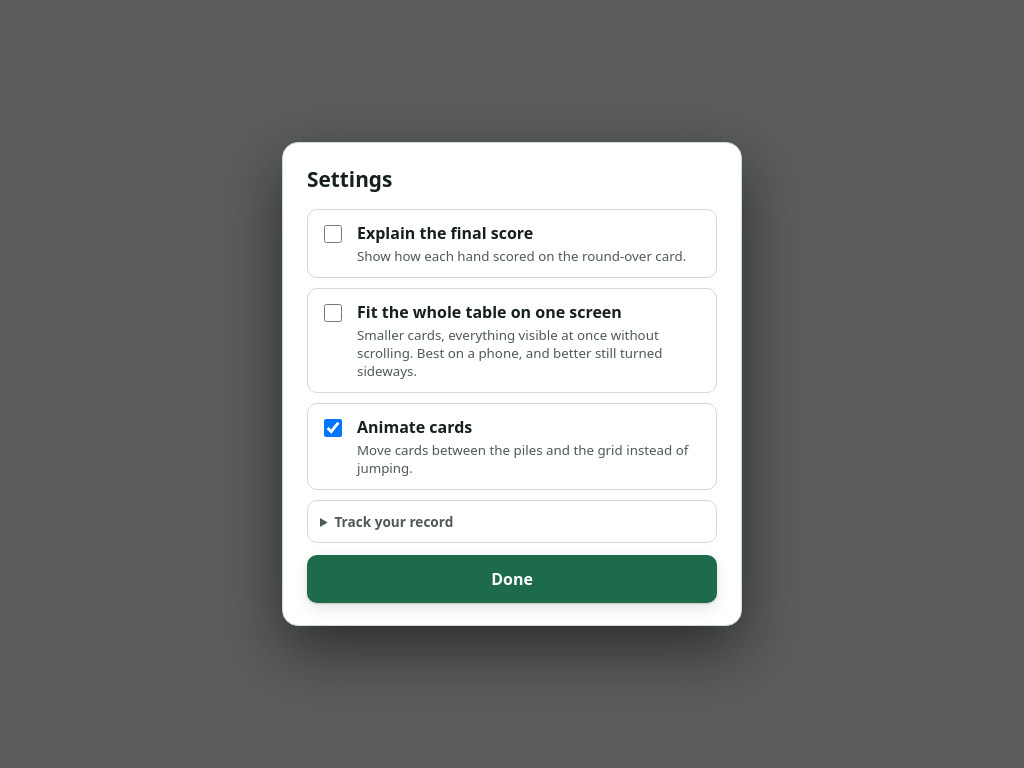
player record placement › records nothing while nobody is selected
Click the heading "Track your record" at point(394, 522), box top-left (334, 512), bottom-right (453, 531)
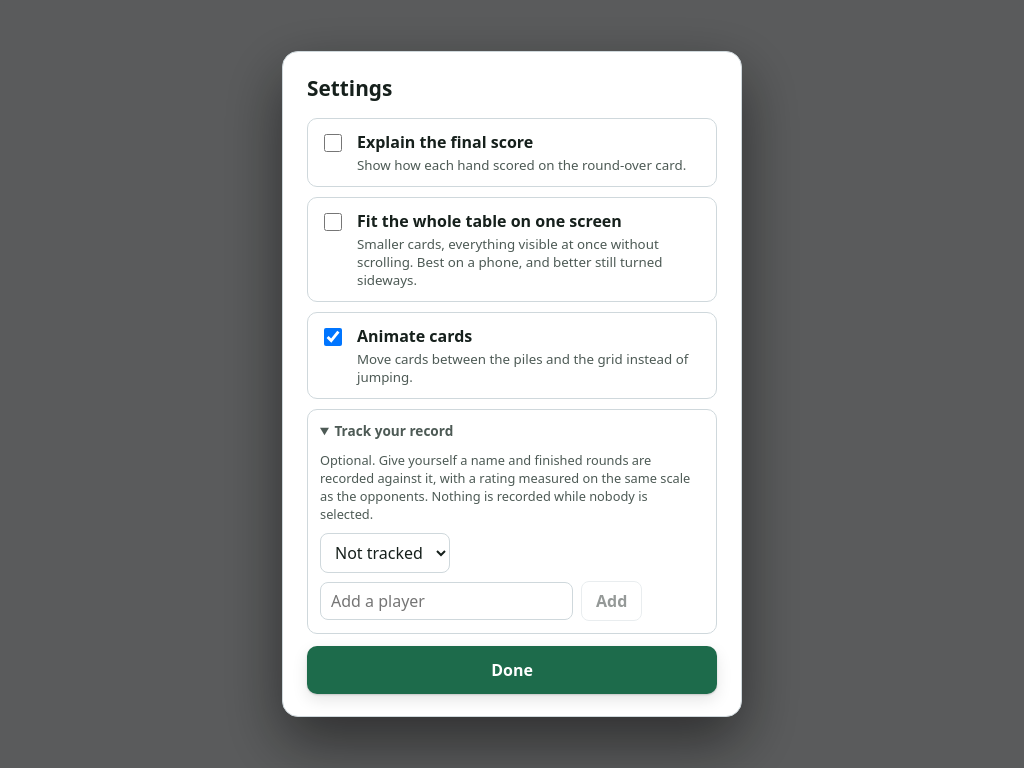
Expected: the dropdown named "Player" shows "Not tracked", top-left (320, 533), bottom-right (450, 573)
